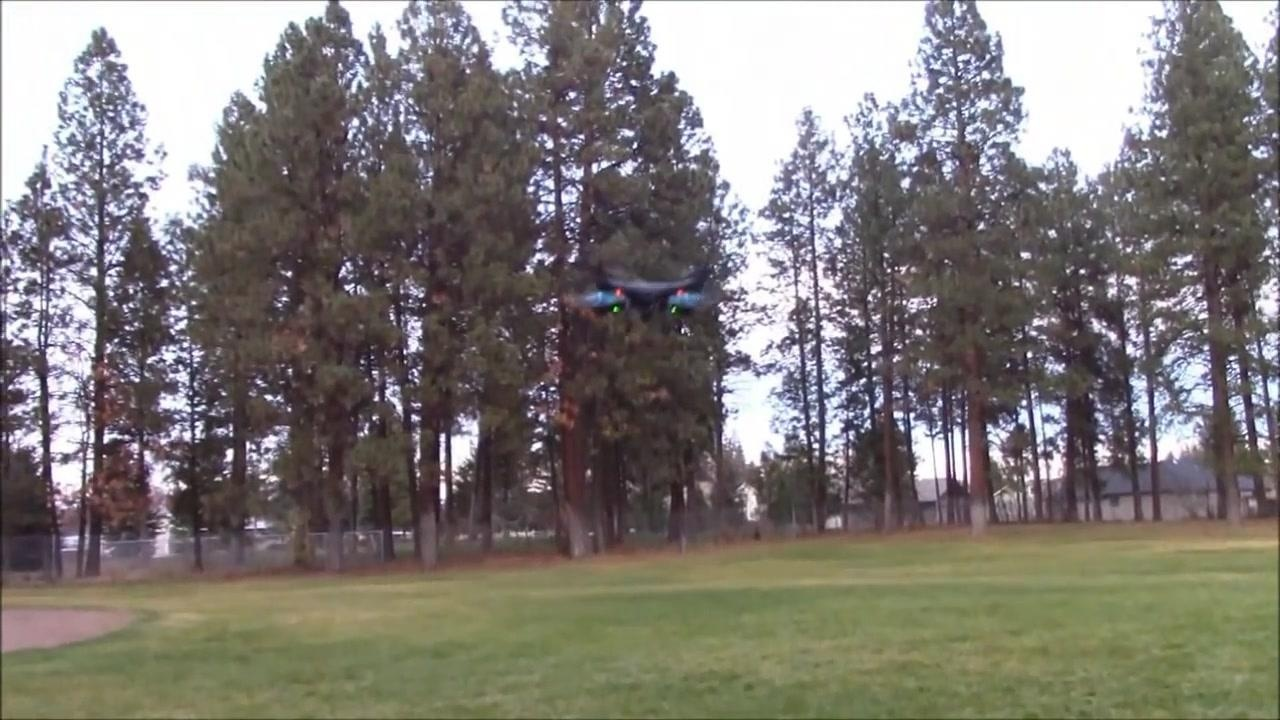UAV: (575, 261, 721, 337)
